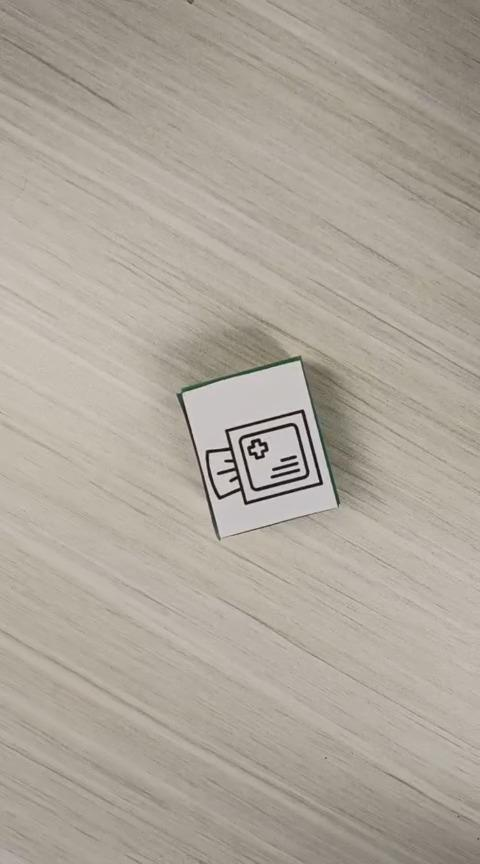Gauze: (176, 354, 340, 541)
